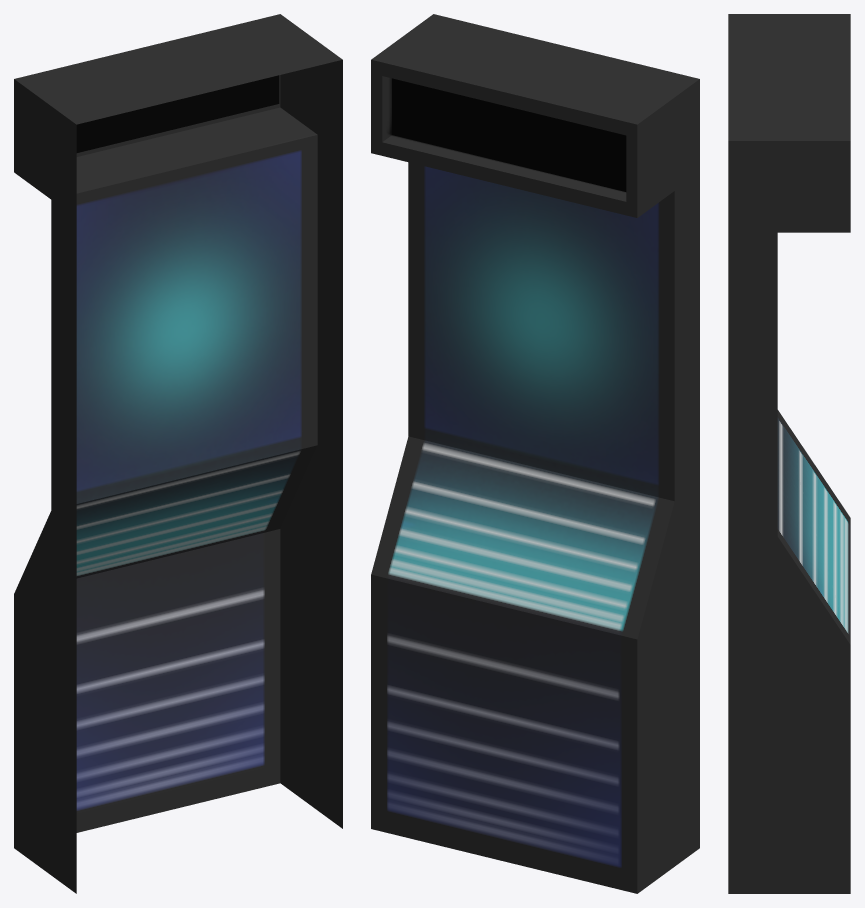
The model's file is Dart Board Stand.fbx.
The picture shows the model from 3 angles, left to right: view 1: azimuth 30°, elevation 25°; view 2: azimuth 150°, elevation 25°; view 3: azimuth 270°, elevation 25°; orthographic projection. The views are drawn at different scales.
Visible parts, largest first — view 1: polySurface1; view 2: polySurface1; view 3: polySurface1.
Boxes of the visible parts, left/top/right/bottom form: polySurface1: left=14, top=14, right=342, bottom=893; polySurface1: left=371, top=14, right=699, bottom=893; polySurface1: left=728, top=14, right=850, bottom=893.
Size of the model in its own units: 0.0453 by 0.1251 by 0.0184.
